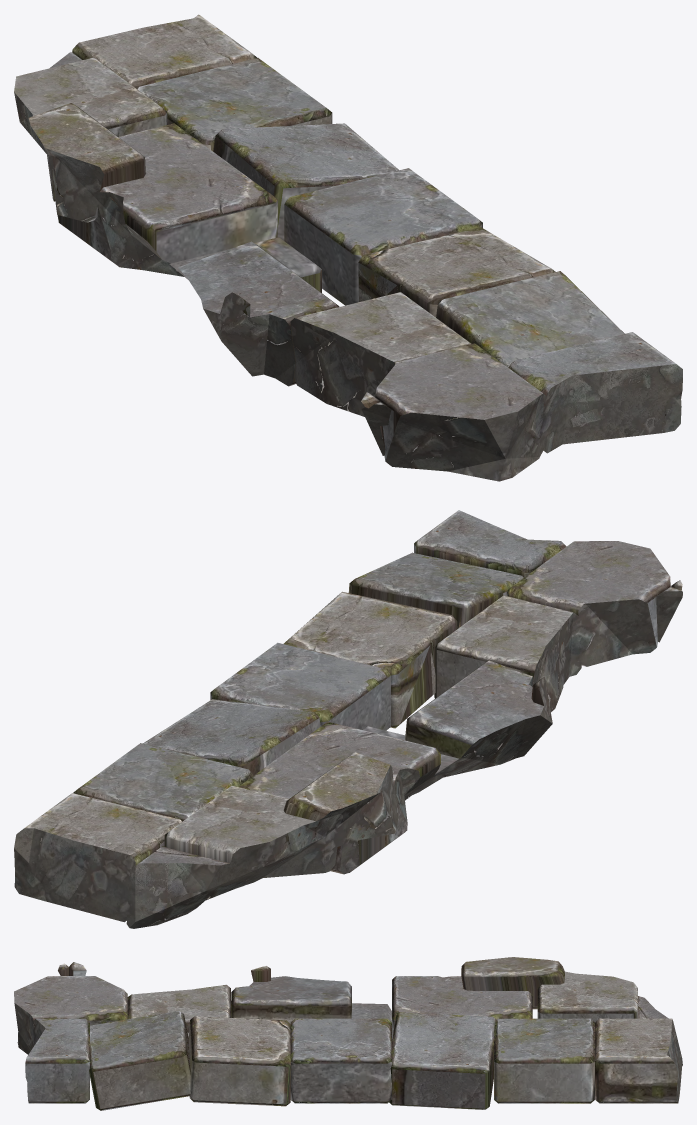
3 renders of one model, top to bottom at view 1: azimuth 30°, elevation 25°; view 2: azimuth 150°, elevation 25°; view 3: azimuth 270°, elevation 25°, orthographic. The views are drawn at different scales.
Visible parts, largest first — view 1: SM_Greathall_Floor_8x8_Dmg_02_LOD0; view 2: SM_Greathall_Floor_8x8_Dmg_02_LOD0; view 3: SM_Greathall_Floor_8x8_Dmg_02_LOD0.
Boxes of the visible parts, x1,y1,x2,y2 form: SM_Greathall_Floor_8x8_Dmg_02_LOD0: (14,14,682,481); SM_Greathall_Floor_8x8_Dmg_02_LOD0: (14,510,682,928); SM_Greathall_Floor_8x8_Dmg_02_LOD0: (14,957,682,1110).
Bounding box in the file's own units: 2.27 × 0.952 × 6.61.
2 materials, 2 textured.
